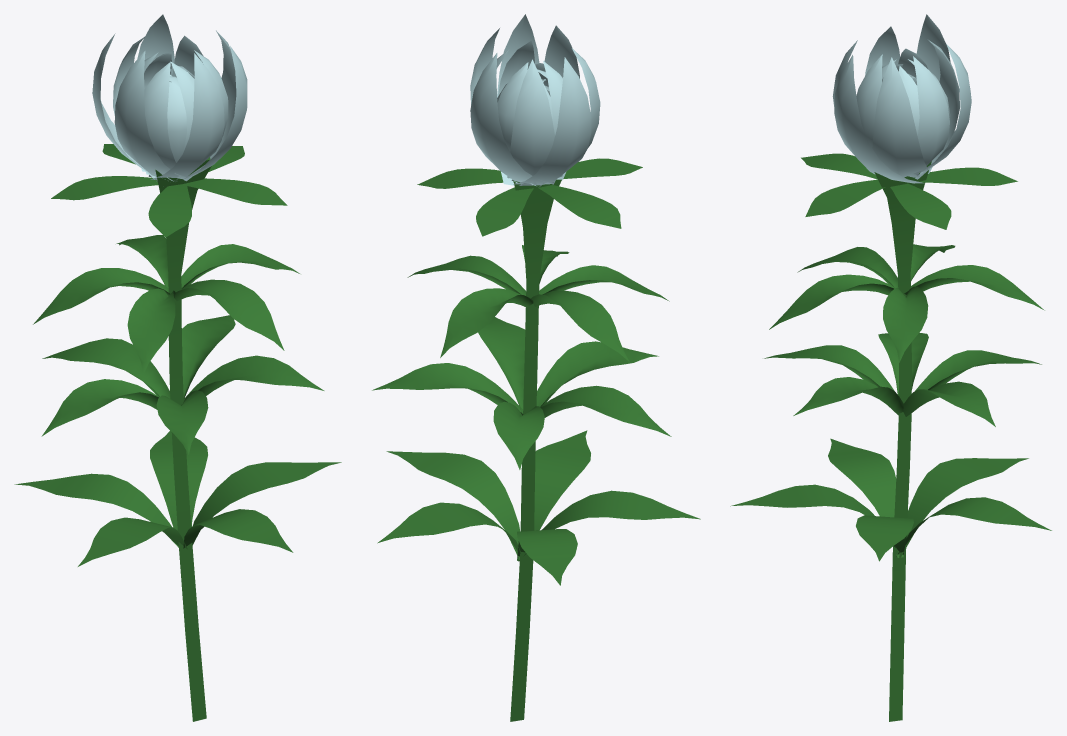
File: plant_lotus_flower_E.fbx
3 views of the same model, side by side, from view 1: azimuth 30°, elevation 25°; view 2: azimuth 150°, elevation 25°; view 3: azimuth 270°, elevation 25° (orthographic). The views are drawn at different scales.
Visible parts, largest first — view 1: lotus_flower_E_leaves, lotus_flower_E_closed, lotus_flower_E_twig, lotus_flower_E_top_leaf; view 2: lotus_flower_E_leaves, lotus_flower_E_closed, lotus_flower_E_twig, lotus_flower_E_top_leaf; view 3: lotus_flower_E_leaves, lotus_flower_E_closed, lotus_flower_E_twig, lotus_flower_E_top_leaf.
Part boxes in pixels (x1,y1,x2,y2): lotus_flower_E_leaves: (14,235,341,566); lotus_flower_E_closed: (92,14,247,181); lotus_flower_E_twig: (155,157,211,721); lotus_flower_E_top_leaf: (51,144,287,237); lotus_flower_E_leaves: (372,245,700,585); lotus_flower_E_closed: (470,14,600,187); lotus_flower_E_twig: (510,179,561,721); lotus_flower_E_top_leaf: (417,158,642,236); lotus_flower_E_leaves: (730,244,1051,561); lotus_flower_E_closed: (832,14,971,183); lotus_flower_E_twig: (874,161,931,721); lotus_flower_E_top_leaf: (801,153,1017,229).
Size of the model in its own units: 41.52 by 93.14 by 40.37.
